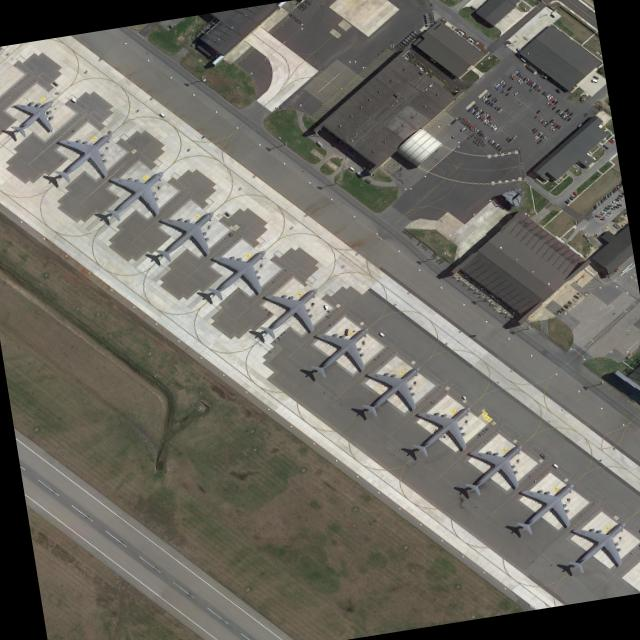large-vehicle: (315, 141, 323, 147), (70, 98, 77, 103), (348, 167, 355, 172), (539, 454, 546, 459), (552, 464, 559, 469), (378, 332, 385, 337), (159, 113, 165, 118), (323, 304, 328, 310), (591, 79, 598, 83), (460, 127, 466, 131), (546, 94, 550, 99), (462, 396, 466, 400)
plane: (240, 271, 341, 355), (290, 310, 391, 393), (85, 155, 185, 238), (444, 429, 546, 510), (340, 350, 441, 431), (393, 389, 492, 471), (190, 233, 288, 315), (137, 196, 240, 274), (496, 469, 595, 550), (548, 504, 640, 588), (37, 116, 133, 195), (0, 87, 70, 147)
small-vehicle: (469, 125, 476, 131), (515, 47, 522, 52), (469, 6, 476, 11), (560, 114, 567, 119), (562, 116, 569, 121), (612, 224, 619, 229), (500, 89, 506, 94), (494, 83, 499, 89), (544, 101, 550, 106), (493, 105, 499, 110), (515, 72, 521, 77), (534, 86, 540, 91), (546, 96, 552, 101), (490, 97, 496, 102), (607, 139, 613, 144), (609, 137, 615, 142), (466, 108, 472, 113), (491, 127, 497, 132), (450, 120, 456, 125), (488, 140, 494, 145), (476, 130, 482, 135), (498, 80, 503, 85), (552, 122, 557, 127), (480, 96, 485, 101), (548, 126, 553, 131), (542, 121, 547, 126), (568, 112, 573, 117), (521, 77, 526, 82), (524, 78, 529, 83), (526, 80, 531, 85), (551, 99, 556, 104), (555, 89, 560, 94), (52, 82, 57, 87), (504, 92, 510, 96), (501, 84, 507, 88), (506, 87, 512, 91), (550, 121, 556, 125), (511, 76, 517, 80), (482, 98, 488, 102), (536, 140, 542, 144), (530, 128, 536, 132), (543, 123, 549, 127), (592, 76, 598, 80), (527, 82, 533, 86), (530, 83, 536, 87), (548, 98, 554, 102), (336, 141, 342, 145), (573, 295, 579, 299), (493, 144, 499, 148), (490, 142, 496, 146), (461, 120, 467, 124), (465, 123, 471, 127), (612, 206, 619, 209), (496, 86, 501, 90), (500, 82, 505, 86), (513, 92, 518, 96), (535, 110, 540, 114), (533, 115, 538, 119), (556, 126, 561, 130), (509, 74, 514, 78), (516, 79, 521, 83), (518, 81, 523, 85), (547, 103, 552, 107), (517, 102, 522, 106), (538, 118, 543, 122), (558, 111, 563, 115), (497, 109, 502, 113), (486, 94, 491, 98), (485, 92, 489, 97), (484, 100, 489, 104), (486, 101, 491, 105), (491, 104, 496, 108), (540, 120, 545, 124), (532, 130, 537, 134), (536, 133, 541, 137), (539, 135, 544, 139), (541, 136, 546, 140), (543, 138, 548, 142), (555, 109, 560, 113), (559, 113, 564, 117), (566, 111, 571, 115), (528, 88, 533, 92), (566, 118, 571, 122), (513, 70, 518, 74), (517, 74, 522, 78), (520, 75, 525, 79), (532, 85, 537, 89), (536, 88, 541, 92), (541, 91, 546, 95), (543, 93, 548, 97), (553, 101, 558, 105), (506, 139, 511, 143), (224, 213, 229, 217), (549, 14, 554, 18), (479, 111, 484, 115), (486, 122, 491, 126), (505, 137, 510, 141), (484, 120, 489, 124), (497, 147, 502, 151), (469, 110, 474, 114), (475, 114, 480, 118), (482, 119, 487, 123), (474, 108, 479, 112), (477, 109, 482, 113), (484, 114, 489, 118), (488, 124, 493, 128), (490, 125, 495, 129), (511, 135, 516, 139), (495, 146, 500, 150), (572, 192, 577, 196), (570, 194, 575, 198), (563, 201, 568, 205), (578, 167, 583, 171), (574, 164, 579, 168), (464, 121, 469, 125), (468, 125, 473, 129), (474, 129, 479, 133), (483, 136, 488, 140), (486, 139, 491, 143), (602, 209, 608, 212), (469, 335, 475, 338), (617, 195, 623, 198), (489, 103, 493, 107), (496, 107, 500, 111), (493, 99, 497, 103), (564, 109, 568, 113), (478, 116, 482, 120), (473, 106, 477, 110), (482, 112, 486, 116), (569, 197, 573, 201), (460, 118, 464, 122), (472, 128, 476, 132), (478, 133, 482, 137), (481, 134, 485, 138), (548, 120, 553, 123), (554, 125, 559, 128), (551, 107, 556, 110), (604, 207, 609, 210), (598, 213, 603, 216), (616, 204, 621, 207), (608, 210, 613, 213), (602, 216, 607, 219), (612, 201, 617, 204), (610, 203, 615, 206), (614, 199, 619, 202), (595, 203, 598, 208), (471, 112, 476, 115), (473, 113, 478, 116), (480, 118, 485, 121), (566, 199, 571, 202), (457, 117, 462, 120), (551, 128, 555, 131), (274, 107, 280, 109), (618, 183, 621, 187), (612, 190, 615, 194), (609, 191, 612, 195), (607, 193, 610, 197), (604, 195, 607, 199), (602, 197, 605, 201), (600, 199, 603, 203), (333, 138, 337, 141), (616, 186, 619, 190), (593, 206, 596, 210), (598, 202, 601, 206), (471, 105, 475, 108), (486, 116, 490, 119), (488, 118, 492, 121), (604, 215, 609, 217), (606, 205, 611, 207), (600, 211, 605, 213), (610, 208, 615, 210), (606, 213, 611, 215), (599, 219, 604, 221), (616, 197, 621, 199), (597, 216, 601, 218), (614, 187, 616, 191)
